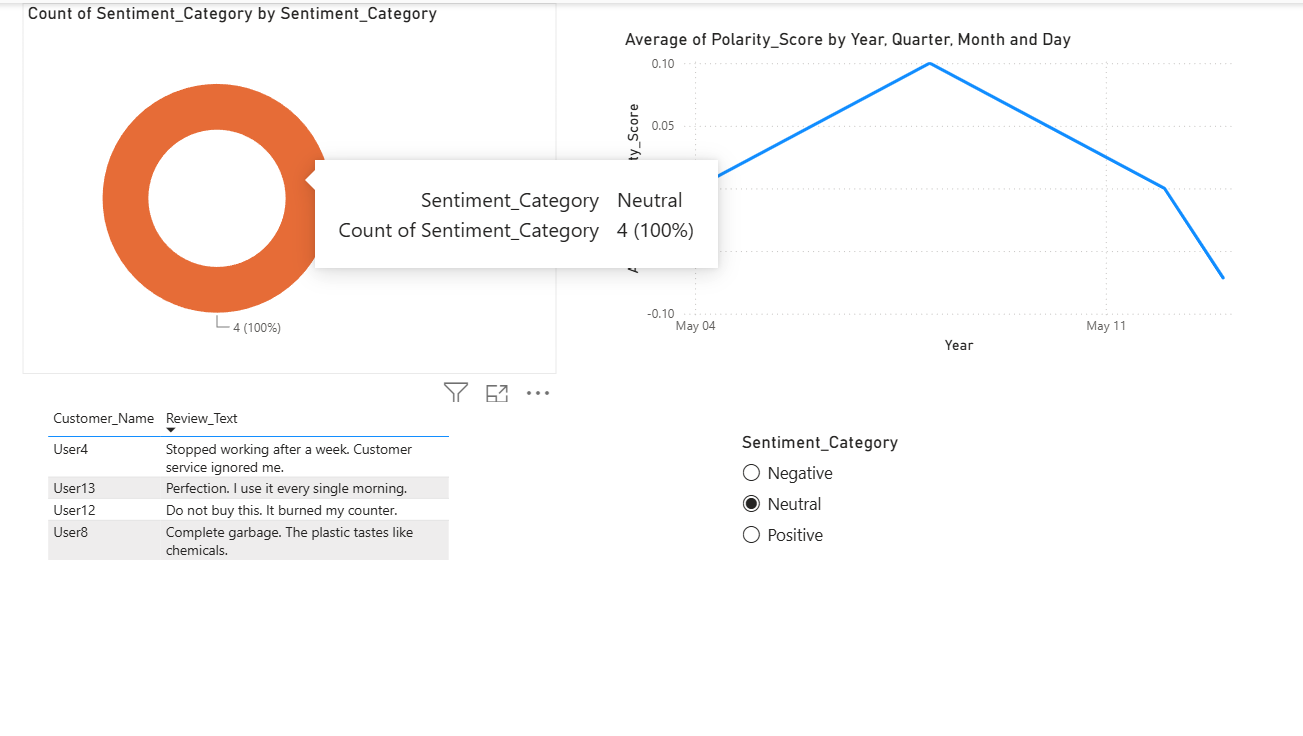

What the dashboard file says about the page in this screenshot:
{"tool":"powerbi","page":{"name":"Page 1","canvas":[1280,720],"ordinal":0},"visuals":[{"type":"donutChart","fields":{"Category":["analyzed_reviews.Sentiment_Category"],"Y":["CountNonNull(analyzed_reviews.Sentiment_Category)"]},"box":[34,0,517.8,359.1],"z":0},{"type":"lineChart","fields":{"Category":["analyzed_reviews.Review_Date.Variation.Date Hierarchy.Year","analyzed_reviews.Review_Date.Variation.Date Hierarchy.Quarter","analyzed_reviews.Review_Date.Variation.Date Hierarchy.Month","analyzed_reviews.Review_Date.Variation.Date Hierarchy.Day"],"Y":["Avg(analyzed_reviews.Polarity_Score)"]},"box":[612.3,24.6,610.4,319.4],"z":1},{"type":"tableEx","fields":{"Values":["analyzed_reviews.Customer_Name","analyzed_reviews.Review_Text"]},"box":[52.9,387.4,536.7,332.6],"z":2},{"type":"listSlicer","fields":{"Values":["analyzed_reviews.Sentiment_Category"]},"box":[725.7,415.8,192.8,275.9],"z":3}]}

Visuals, with their boxes in screenshot pixels (x1, y1, x2, y2), scaled from the page's 1280x720 canvas onto the 1303x736 screenshot:
donutChart - analyzed_reviews.Sentiment_Category x CountNonNull(analyzed_reviews.Sentiment_Category): select_region(35, 0, 562, 367)
lineChart - analyzed_reviews.Review_Date.Variation.Date Hierarchy.Year x analyzed_reviews.Review_Date.Variation.Date Hierarchy.Quarter: select_region(623, 25, 1245, 352)
tableEx - analyzed_reviews.Customer_Name x analyzed_reviews.Review_Text: select_region(54, 396, 600, 735)
listSlicer - analyzed_reviews.Sentiment_Category: select_region(739, 425, 935, 707)
